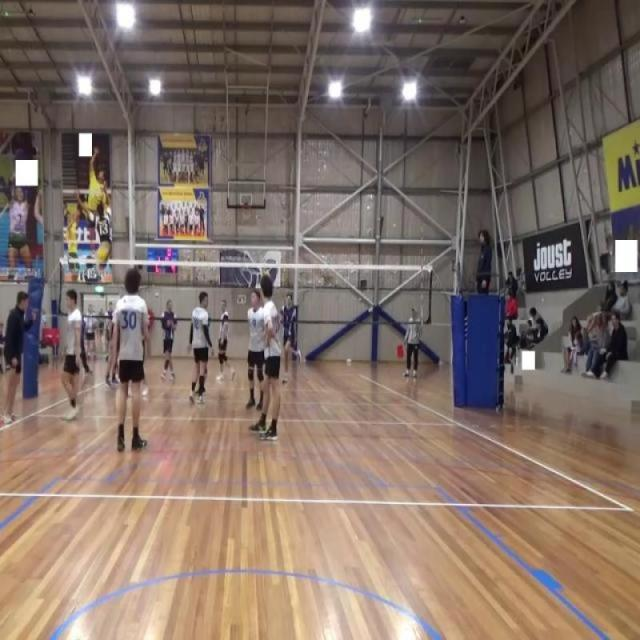volleyball: (95, 238, 112, 273)
